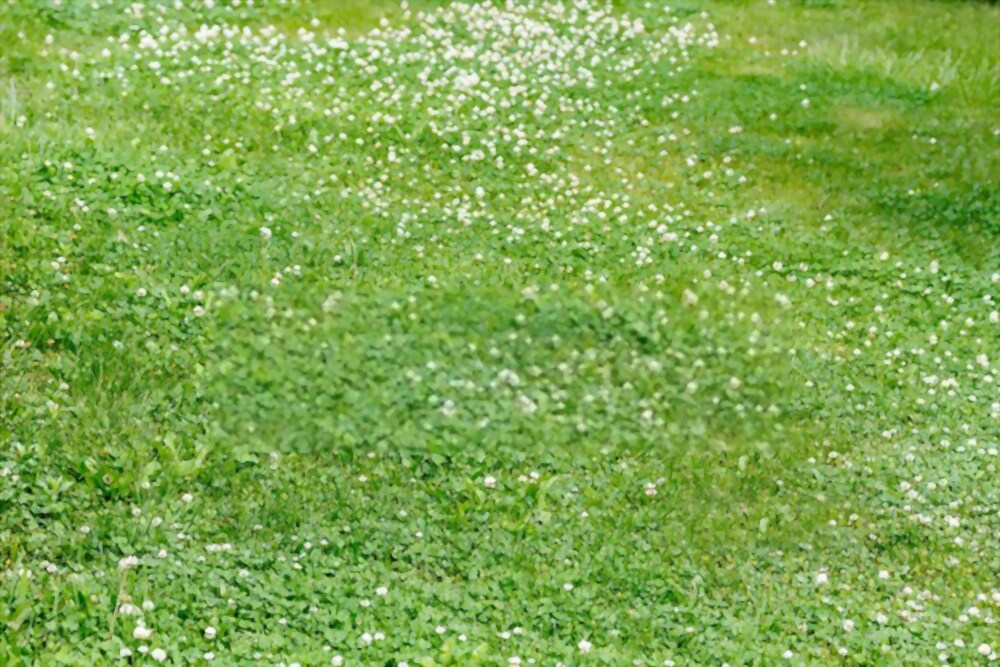clover: (3, 3, 991, 660)
